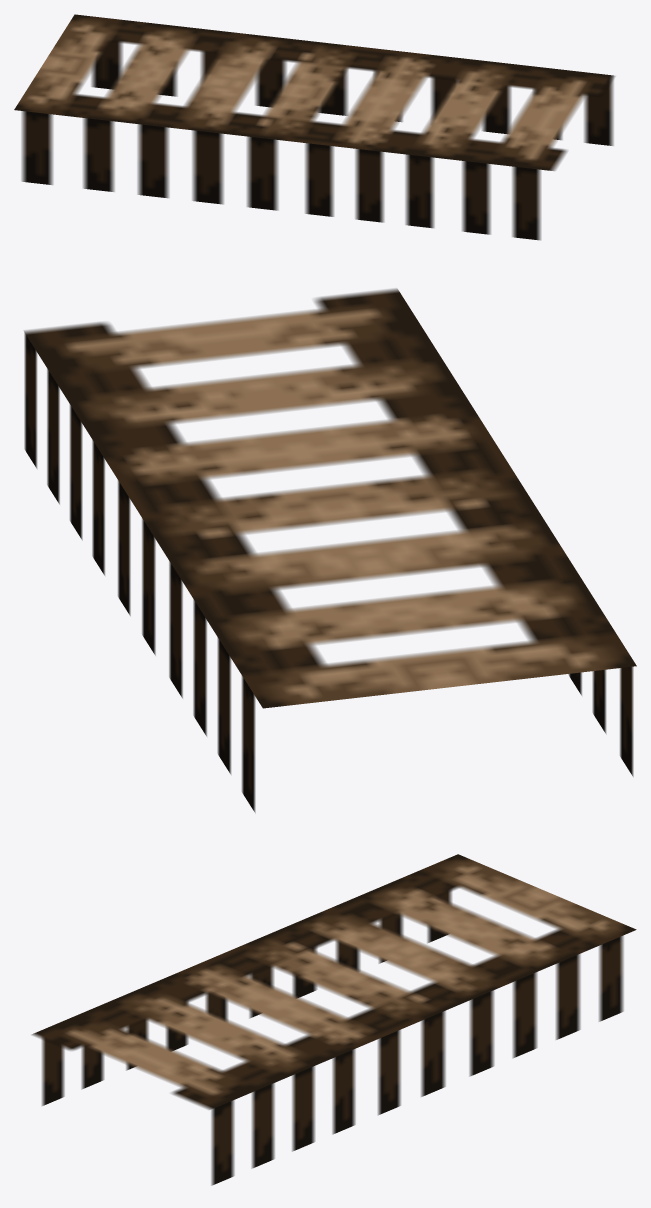
File: park_beach.glb
The picture shows the model from 3 angles, top to bottom: view 1: azimuth 30°, elevation 25°; view 2: azimuth 150°, elevation 25°; view 3: azimuth 270°, elevation 25°; orthographic projection. The views are drawn at different scales.
Visible parts, largest first — view 1: a_park_beach; view 2: a_park_beach; view 3: a_park_beach.
Boxes of the visible parts, x1,y1,x2,y2 form: a_park_beach: (14, 14, 615, 240); a_park_beach: (24, 288, 636, 812); a_park_beach: (32, 854, 636, 1185).
Size of what is drawn, in the model's own units: 10.23 by 1.38 by 10.23.
1 material, 1 textured.
